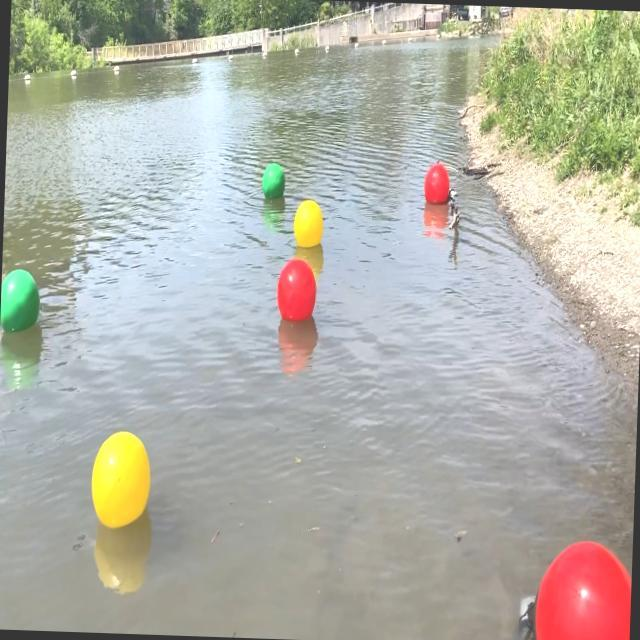buoy: (510, 533, 632, 640), (90, 428, 154, 530), (274, 255, 316, 326), (0, 267, 40, 334), (292, 198, 325, 248), (424, 158, 453, 206), (260, 161, 286, 201)
